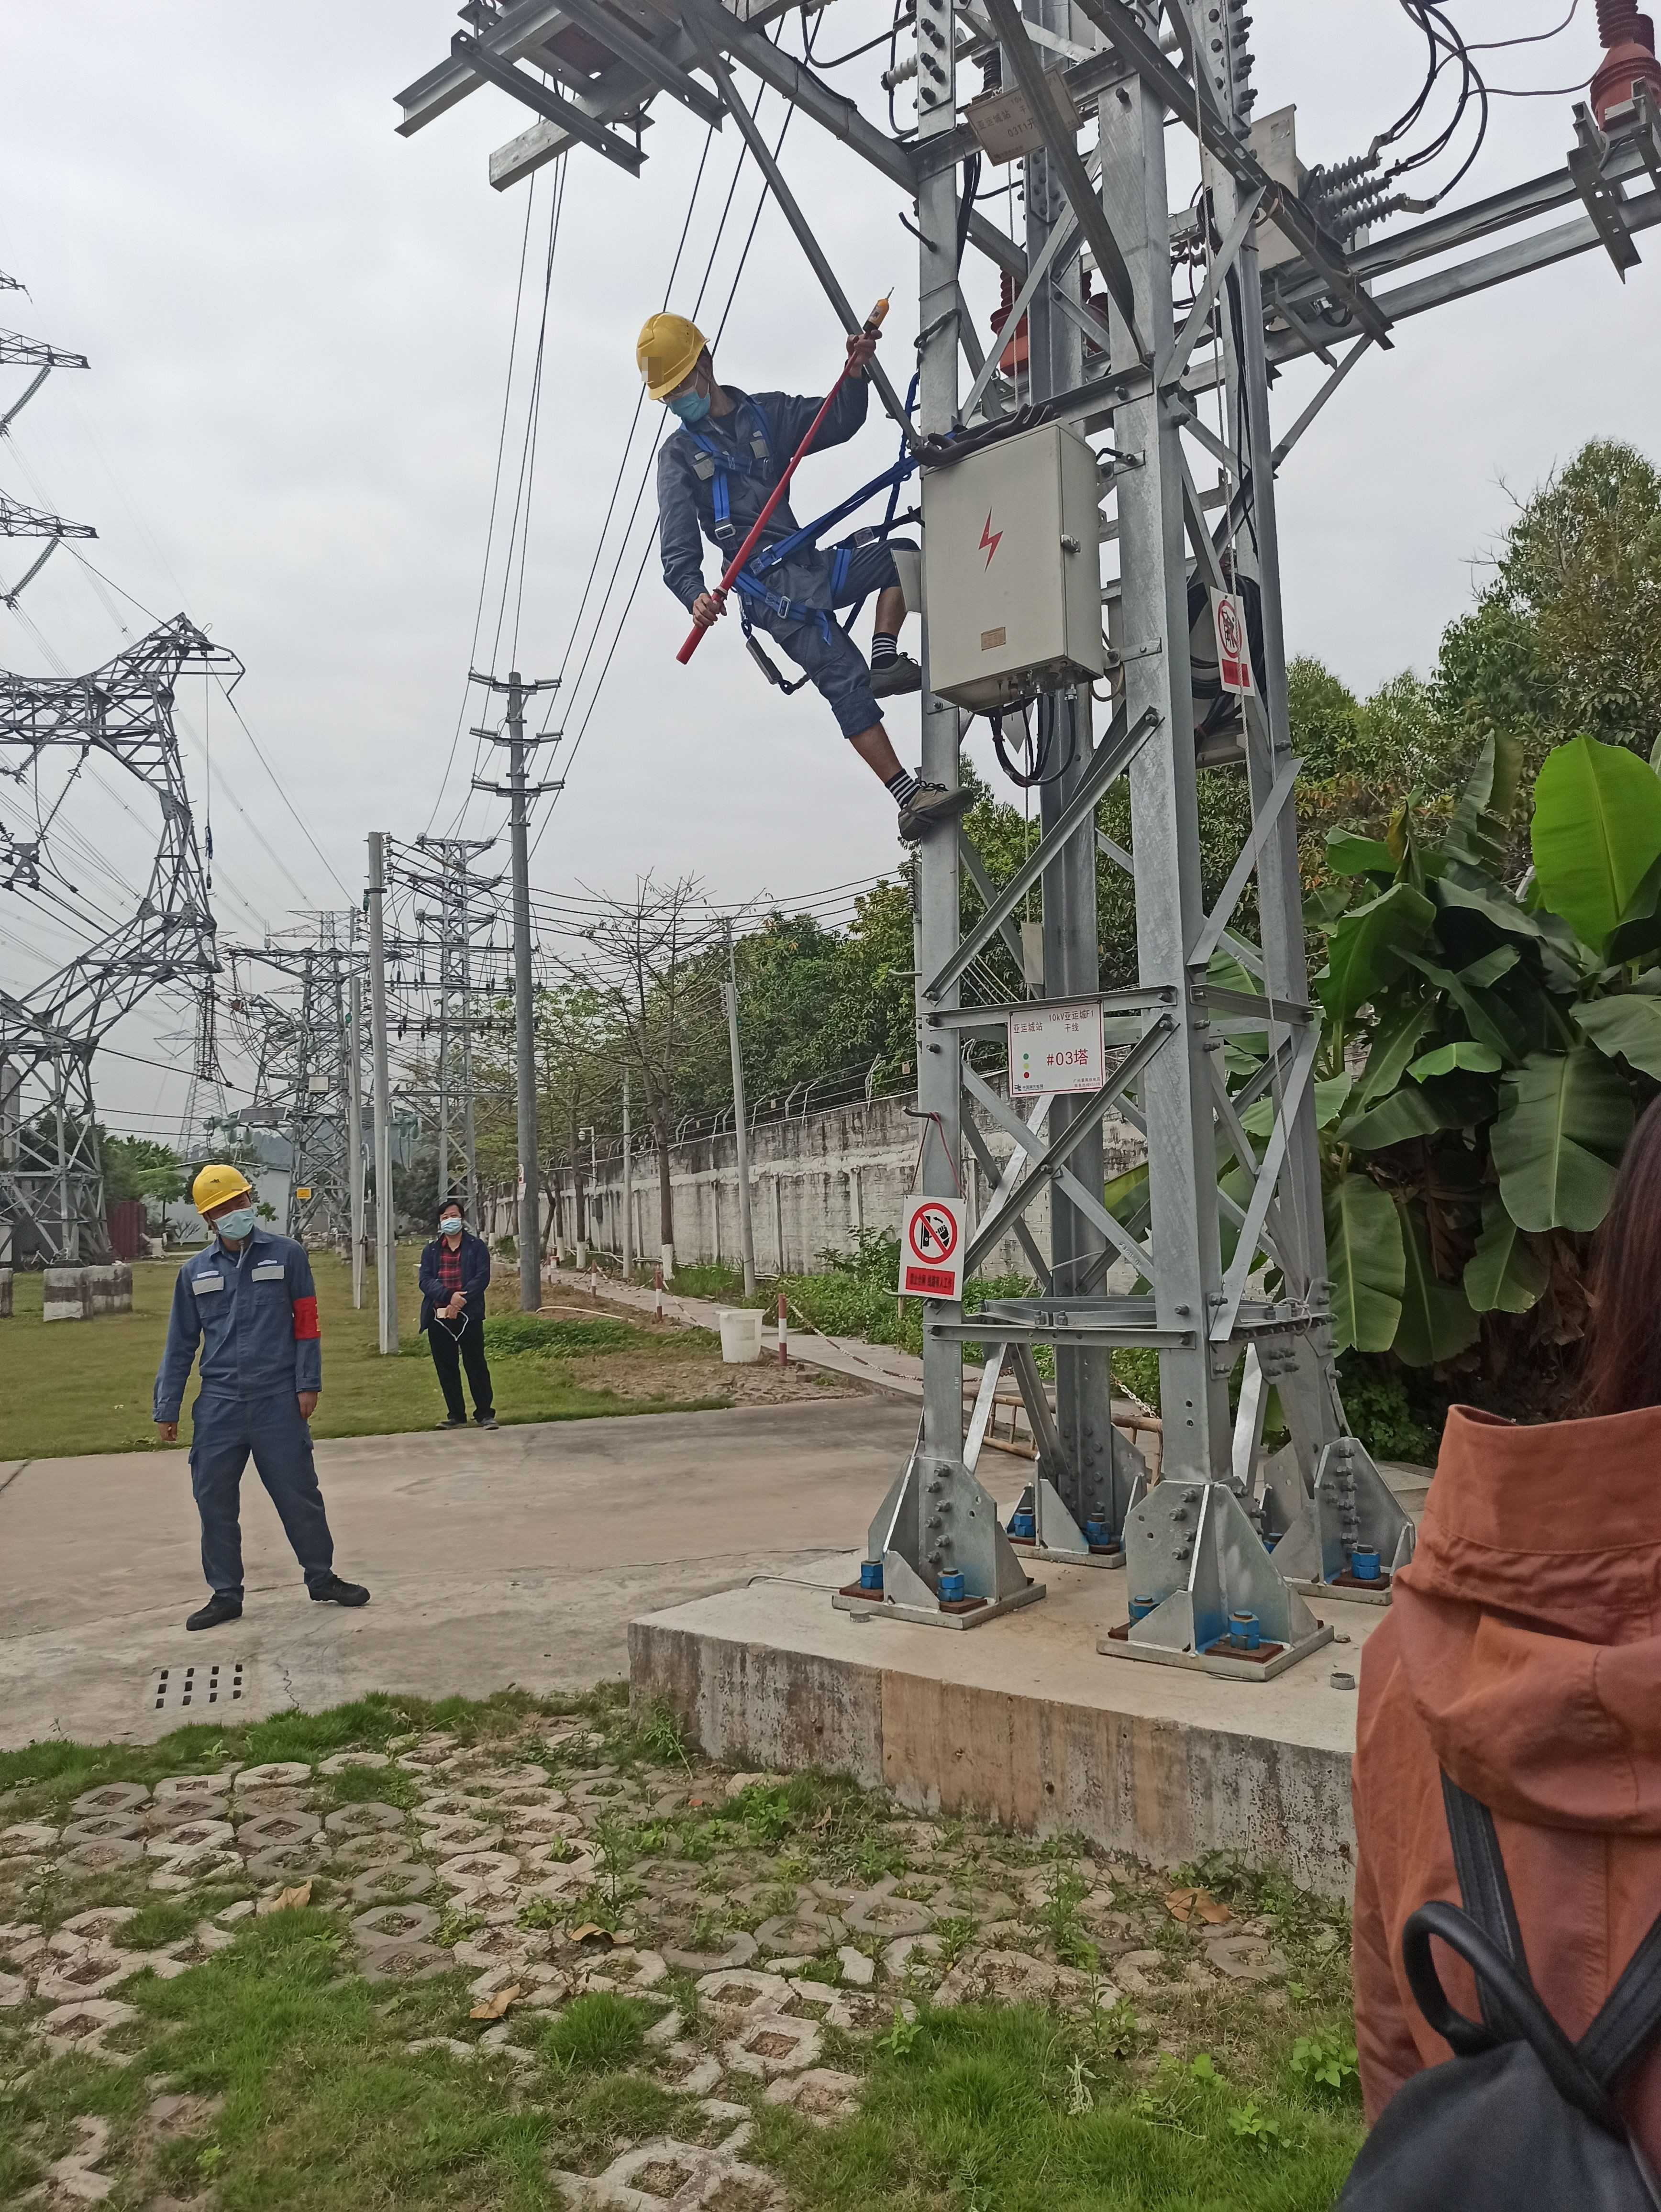downcloth: (422, 1324, 502, 1422)
downsuit: (748, 537, 923, 741), (183, 1396, 337, 1593)
upcloth: (417, 1233, 497, 1328)
upsuit: (644, 370, 869, 600), (154, 1232, 325, 1420)
wrongbottom: (832, 677, 900, 802), (872, 556, 919, 651)
